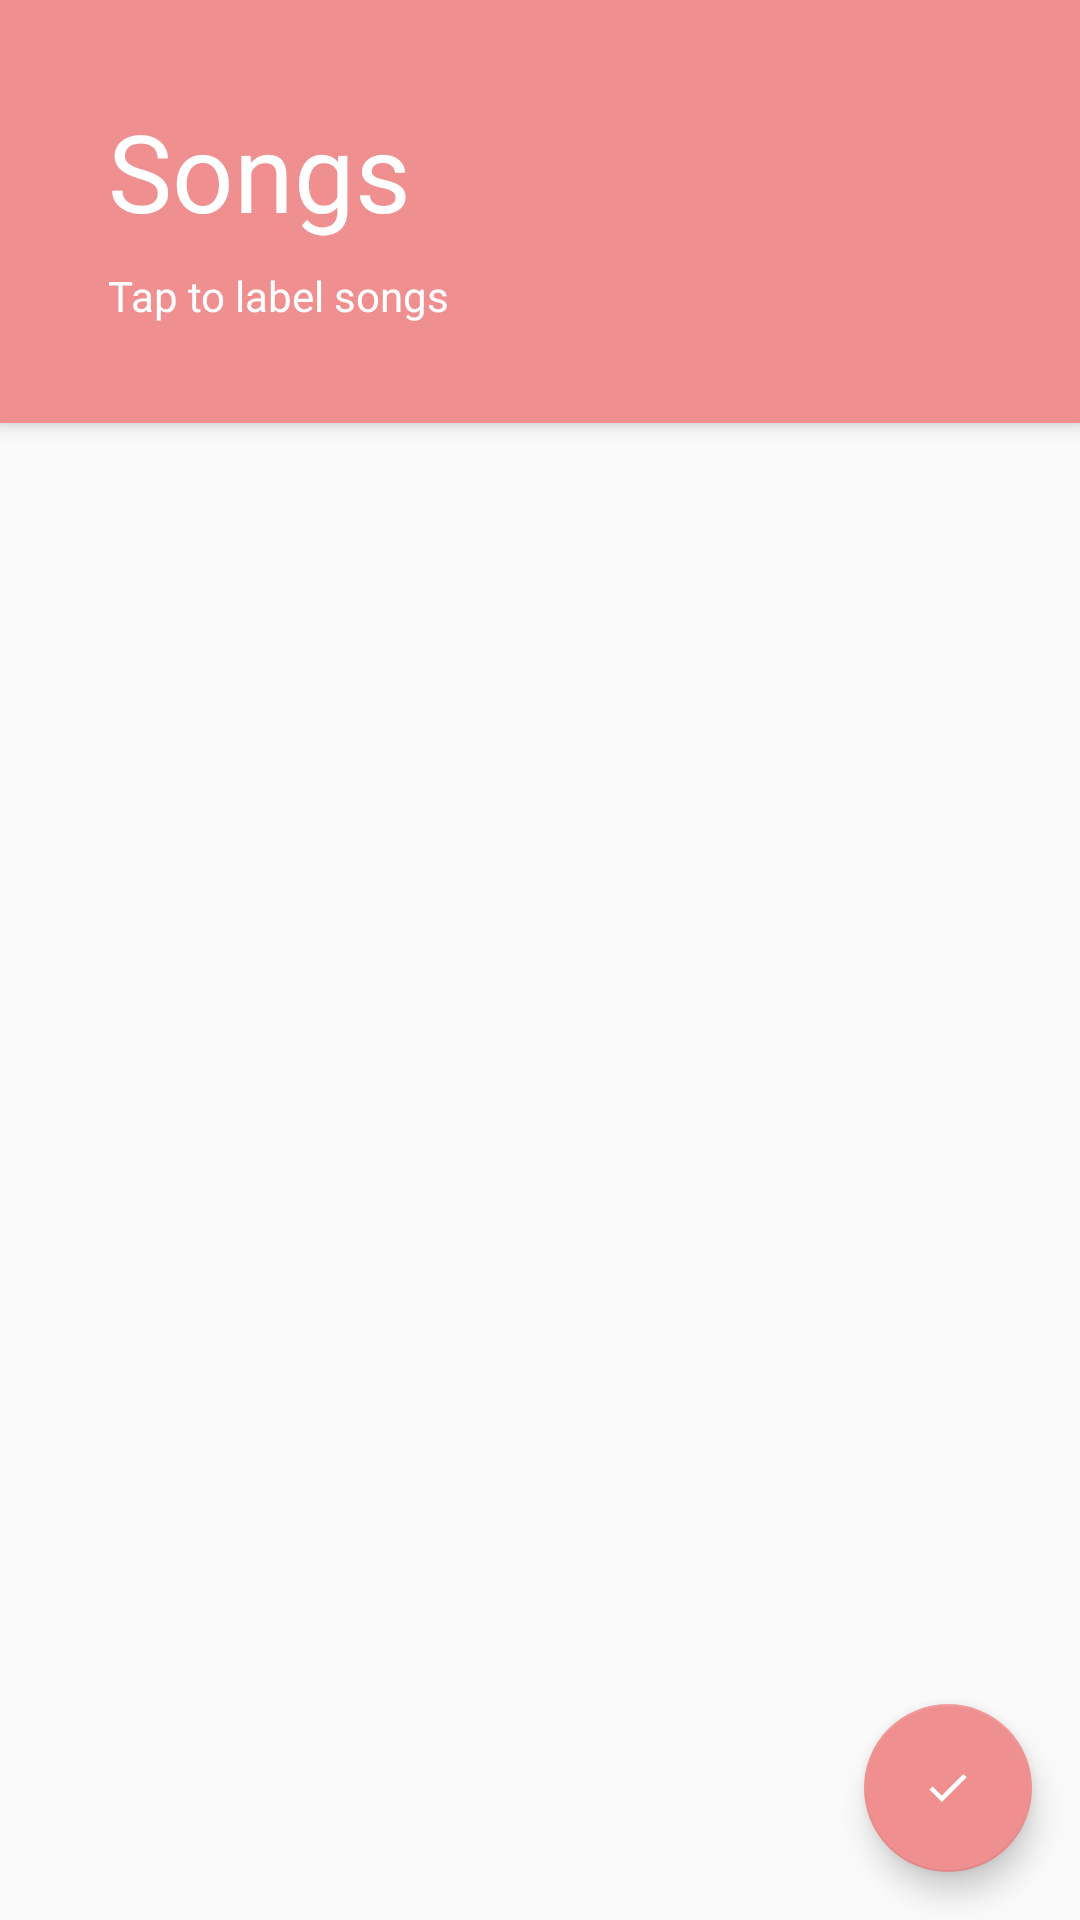

Icon bounding boxes for this 1080*1920 phone screenshot, format {"x1": x1, "y1": y1, "x2": x2, "y2": y2}:
fab: {"x1": 864, "y1": 1704, "x2": 1032, "y2": 1872}
